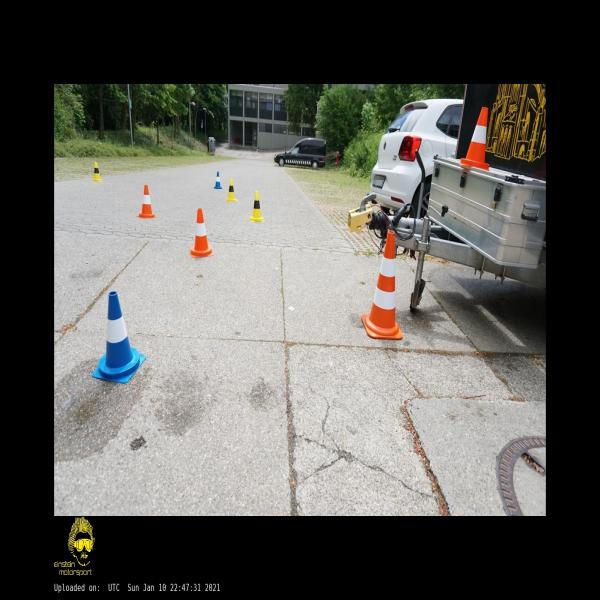blue_cone: (92, 292, 146, 382), (214, 171, 222, 189)
large_orange_cone: (361, 230, 403, 340)
orange_cone: (460, 107, 489, 169), (189, 208, 213, 258), (137, 185, 156, 218)
yellow_cone: (249, 191, 264, 222), (226, 178, 236, 202), (92, 161, 102, 182)
